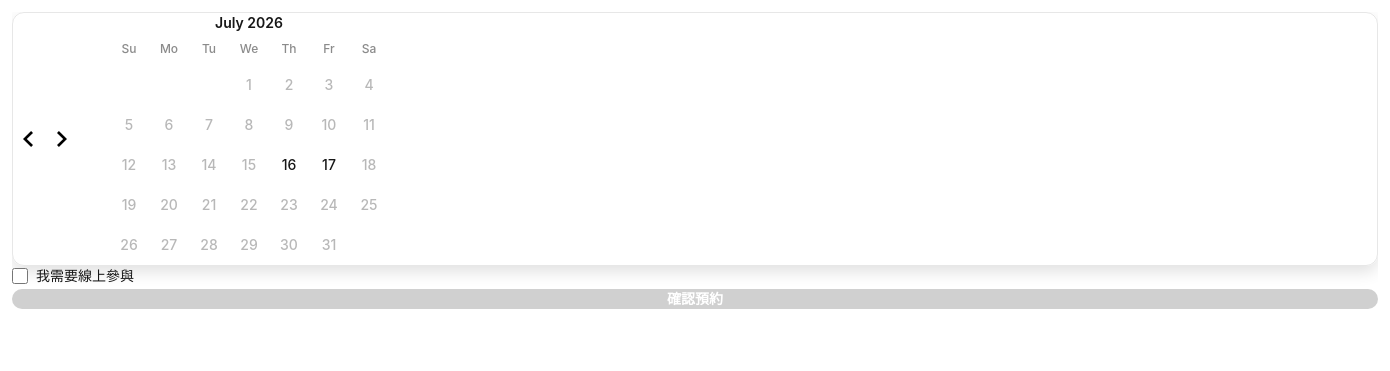
Test: BookingForm › shows a conflict message without updating slots when the candidate already booked (409)
What coordinates should you click on to do the following:
click the button "16"
I would click on:
 (289, 165)
Its box is [269,145,309,185].
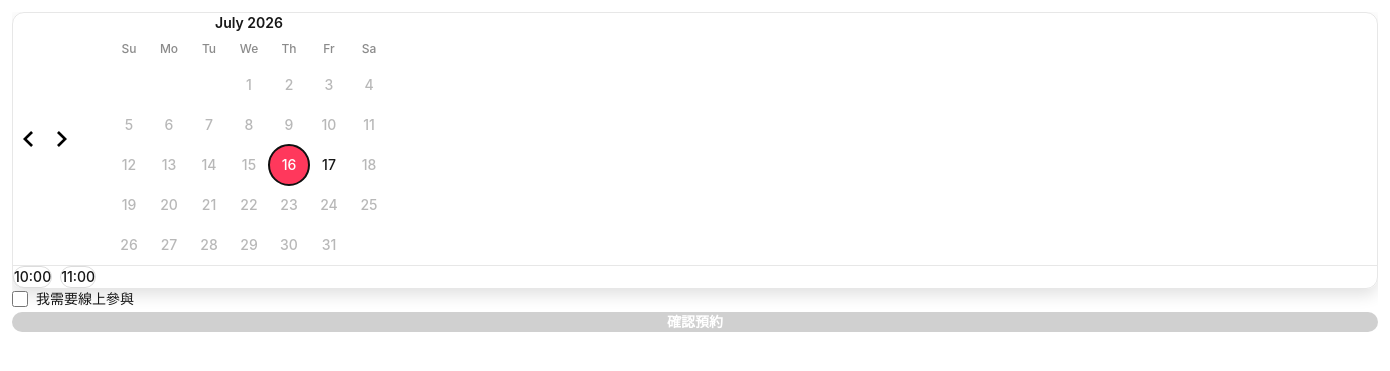
What coordinates should you click on to do the following:
click the button "10:00"
I would click on:
 (33, 277)
Its box is [13,266,52,288].
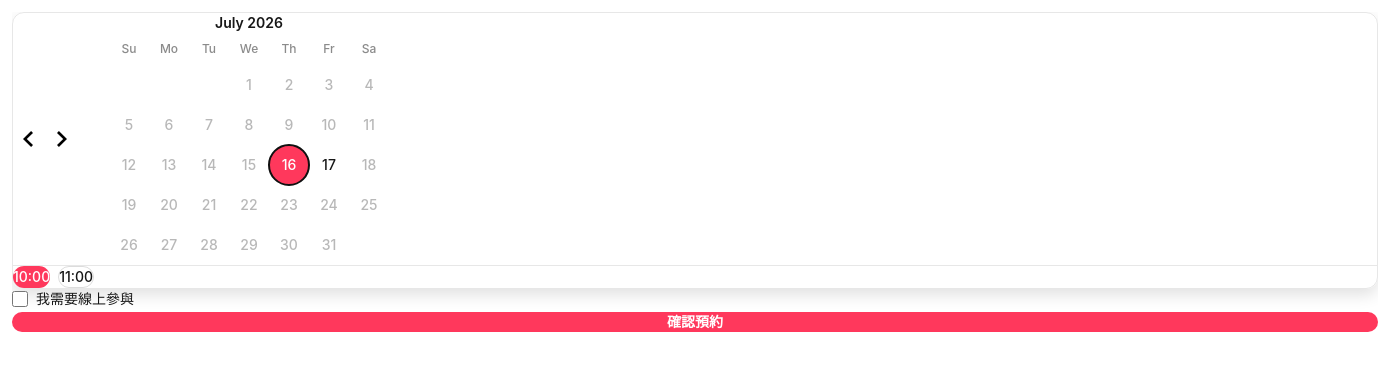
What coordinates should you click on to do the following:
click the button "確認預約"
I would click on:
 (695, 322)
Its box is [12,312,1378,332].
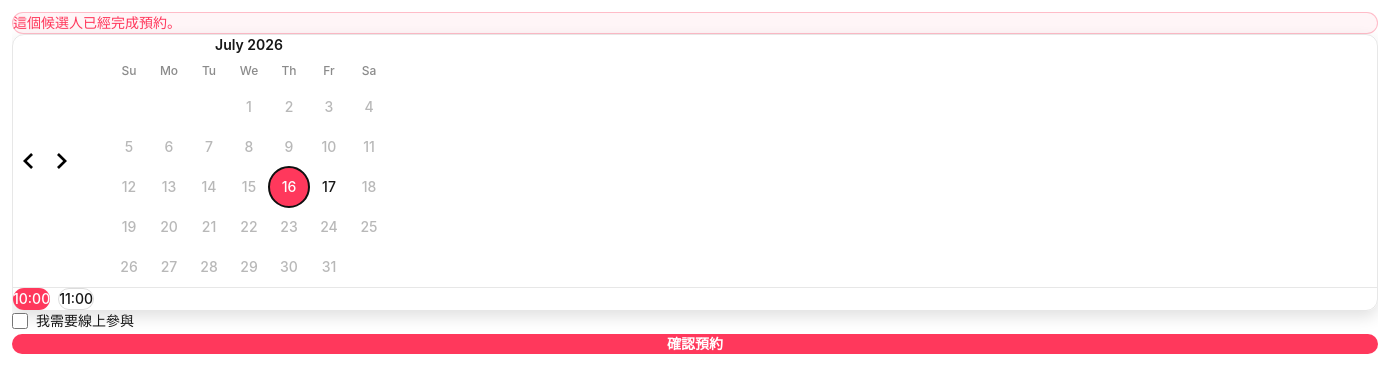
Result: the text "這個候選人已經完成預約。" is shown at [12,12,1378,34]
